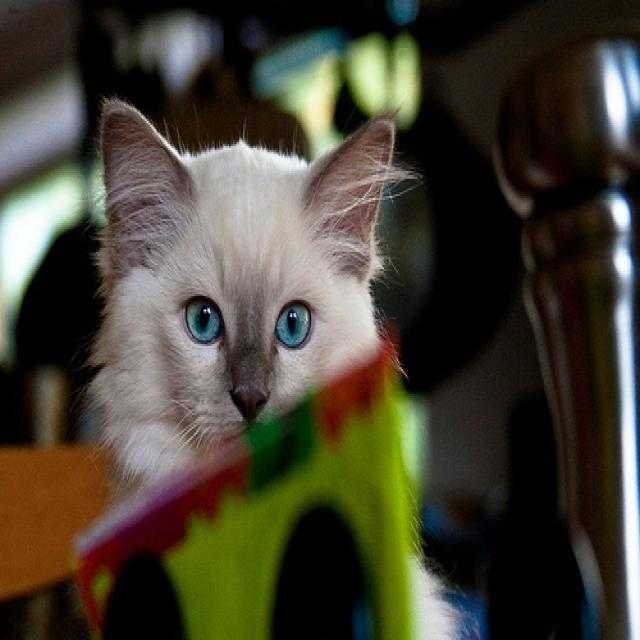Ragdoll: (92, 94, 399, 482)
